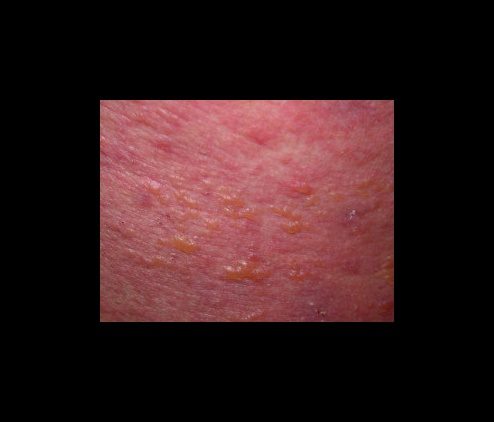SJS-TEN: (97, 98, 396, 324)
